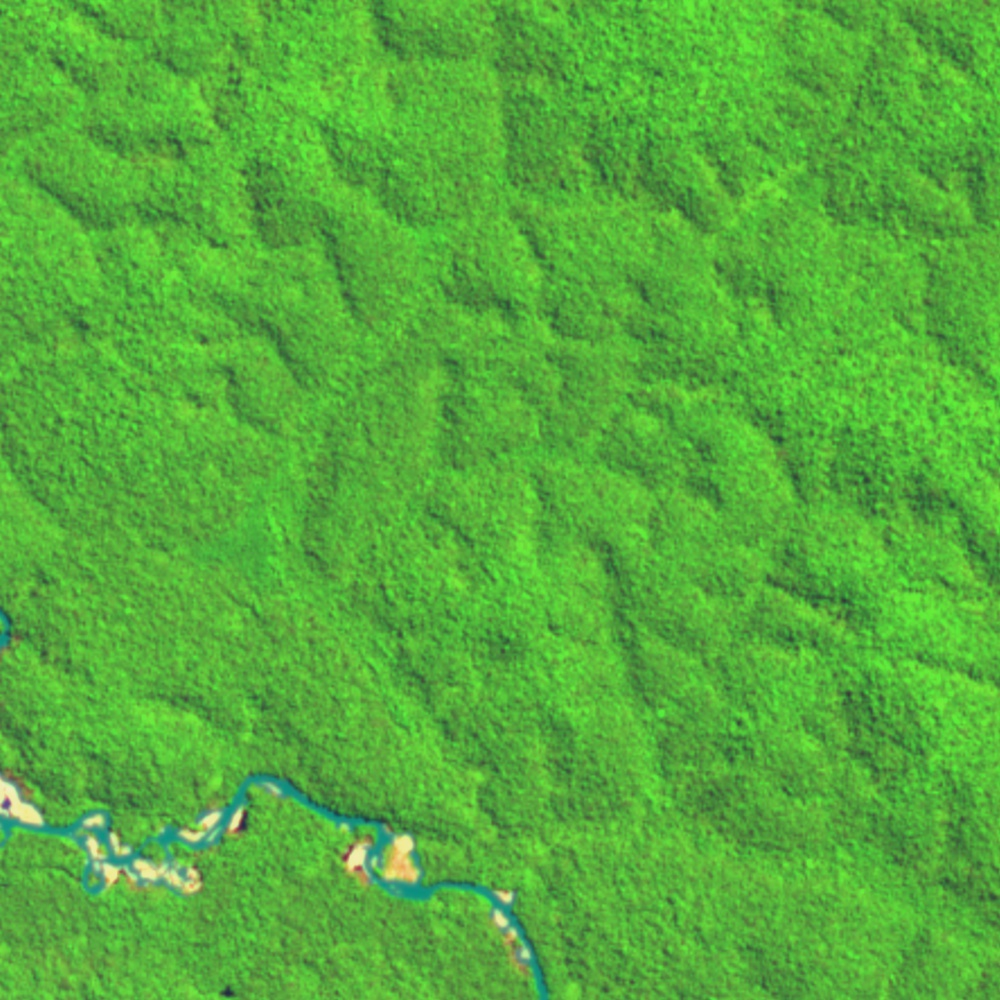illegal: (1, 775, 209, 898), (338, 818, 426, 893), (490, 886, 546, 988), (170, 795, 254, 850)
